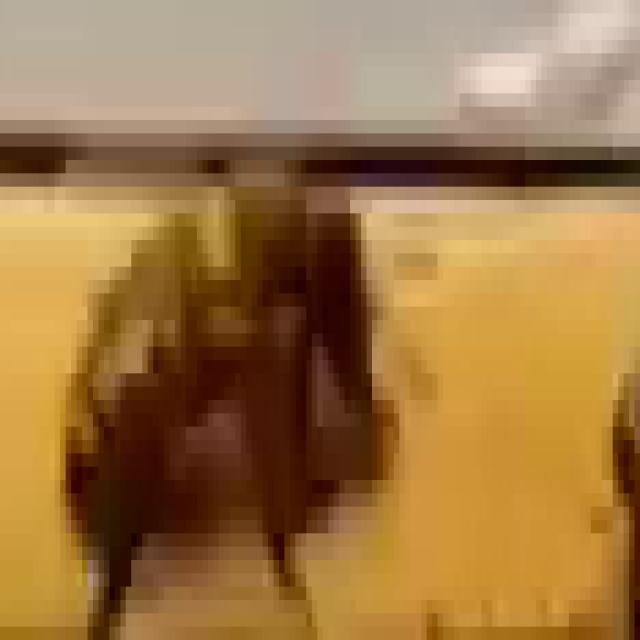honeybee: (52, 163, 400, 590)
